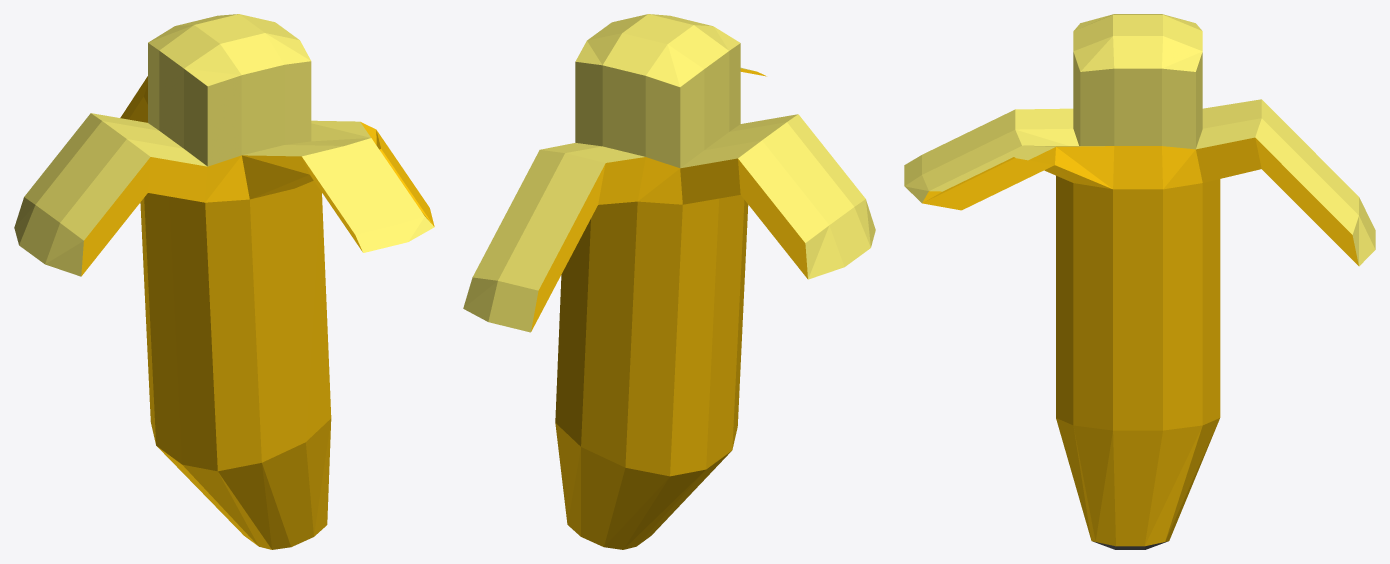
Rendered from platano.obj.
3 views of the same model, side by side, from view 1: azimuth 30°, elevation 25°; view 2: azimuth 150°, elevation 25°; view 3: azimuth 270°, elevation 25° (orthographic). The views are drawn at different scales.
Parts seen in each view (by area): view 1: Cube_Cube.007; view 2: Cube_Cube.007; view 3: Cube_Cube.007.
Part boxes in pixels (bbox=[...]): Cube_Cube.007: bbox=[14, 14, 434, 549]; Cube_Cube.007: bbox=[463, 14, 875, 549]; Cube_Cube.007: bbox=[904, 14, 1375, 549].
Bounding box in the file's own units: 2.93 × 4.74 × 4.04.
